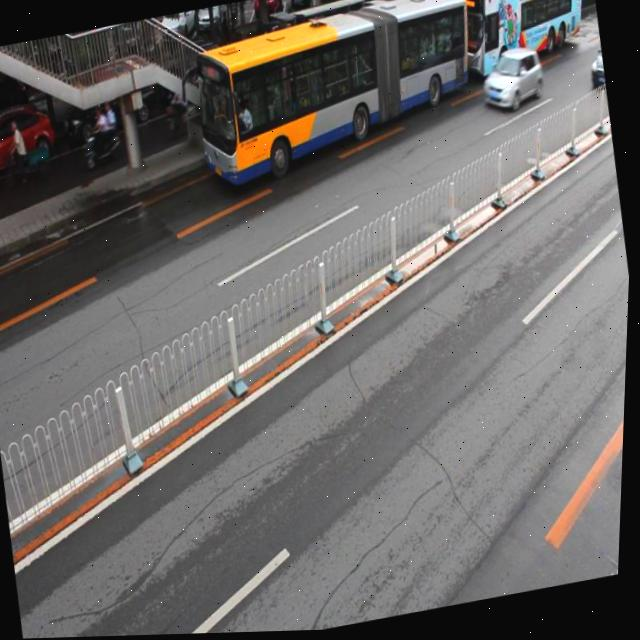car: (57, 64, 162, 141), (242, 19, 325, 91), (161, 37, 239, 111), (0, 98, 62, 181), (476, 47, 548, 118), (584, 50, 609, 98)
van: (187, 0, 485, 181), (439, 0, 598, 84)
